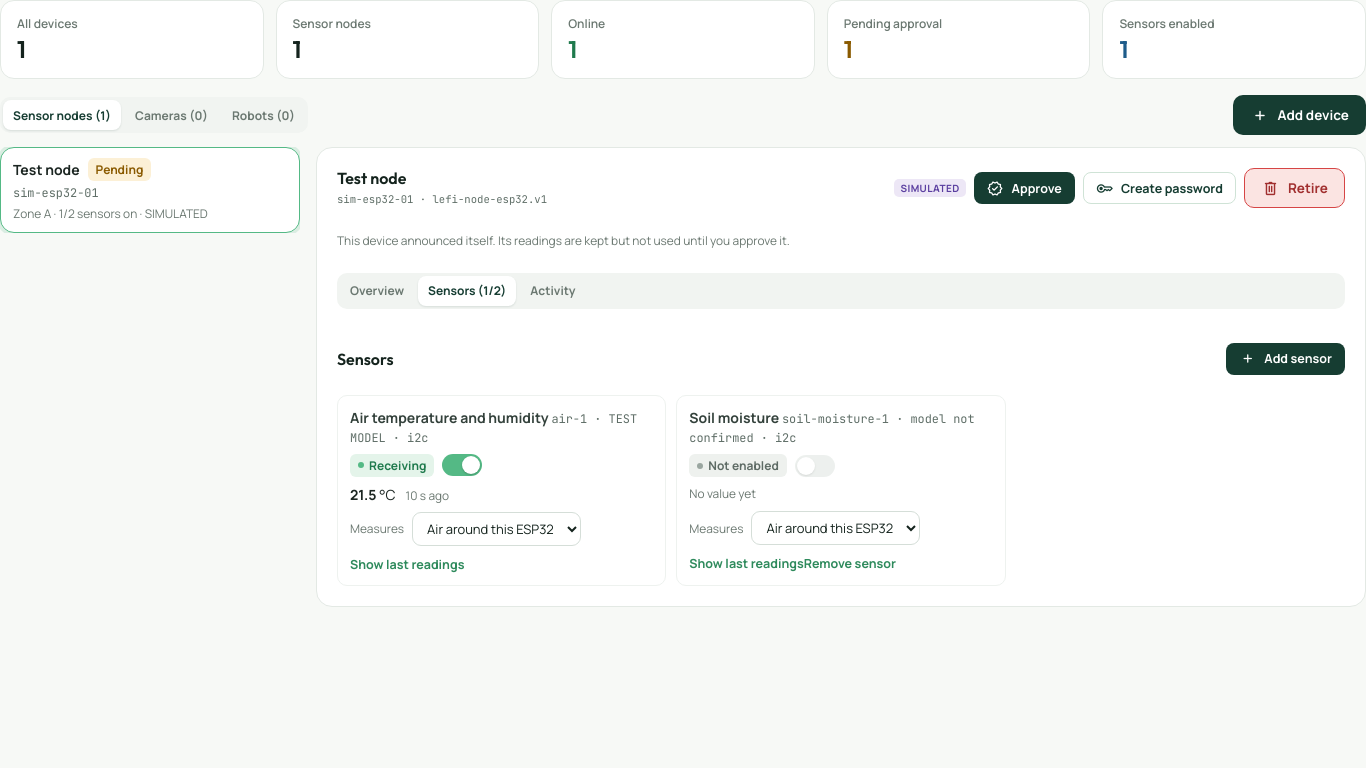
Test case: Devices & Health against the real Lefi Brain › shows the connection password once, from Lefi Brain
Click the button "Create password": [1159, 188] box [1083, 172, 1236, 204]
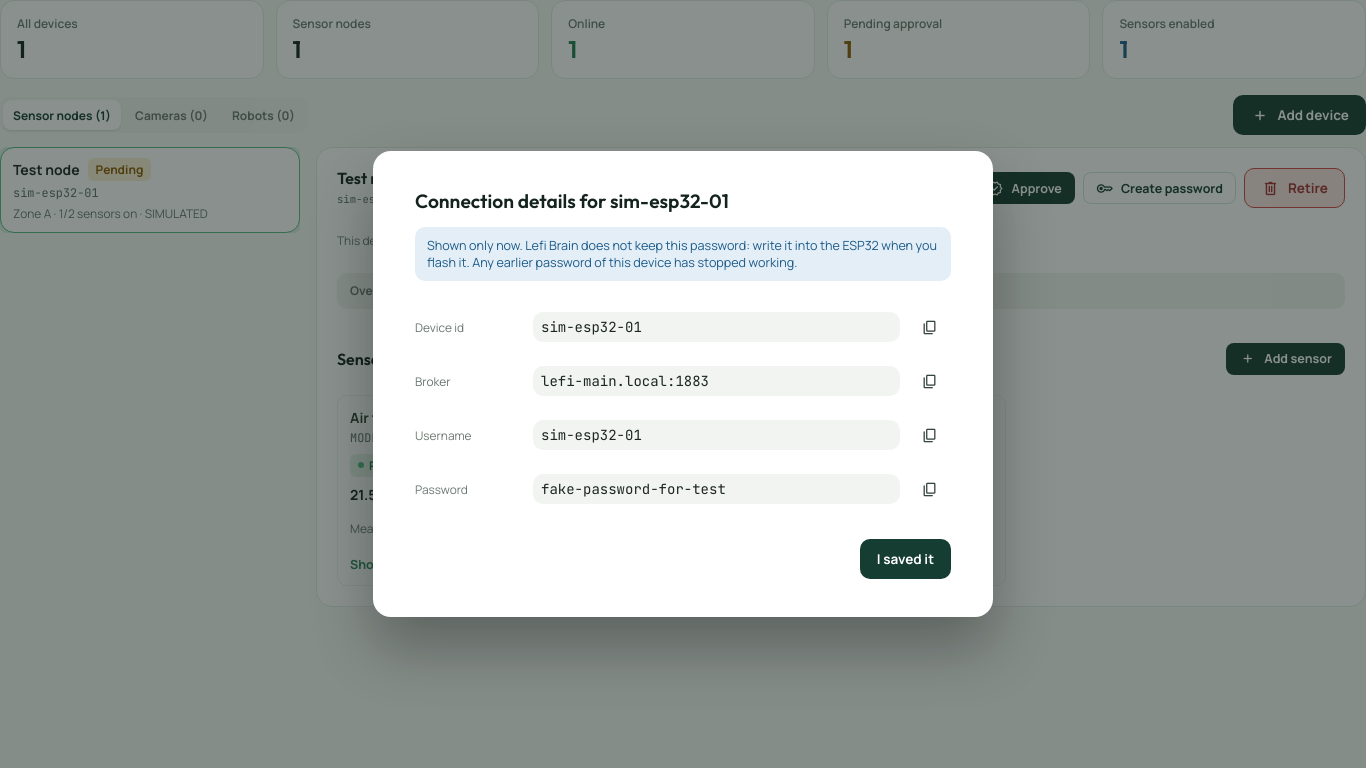
Expected: the text "fake-password-for-test" is shown, [533, 474, 900, 504]
Expected: the text "lefi-main.local:1883" is shown, [533, 366, 900, 396]
